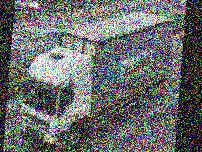truck: (16, 2, 173, 152)
